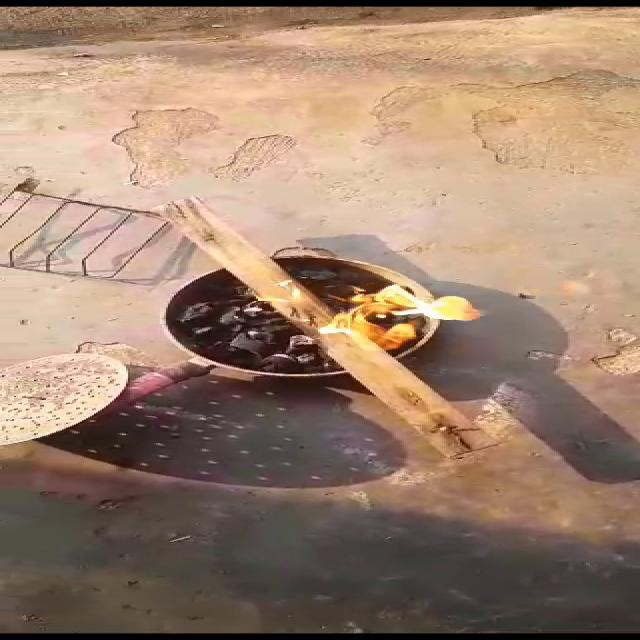Fire: (308, 274, 499, 358)
